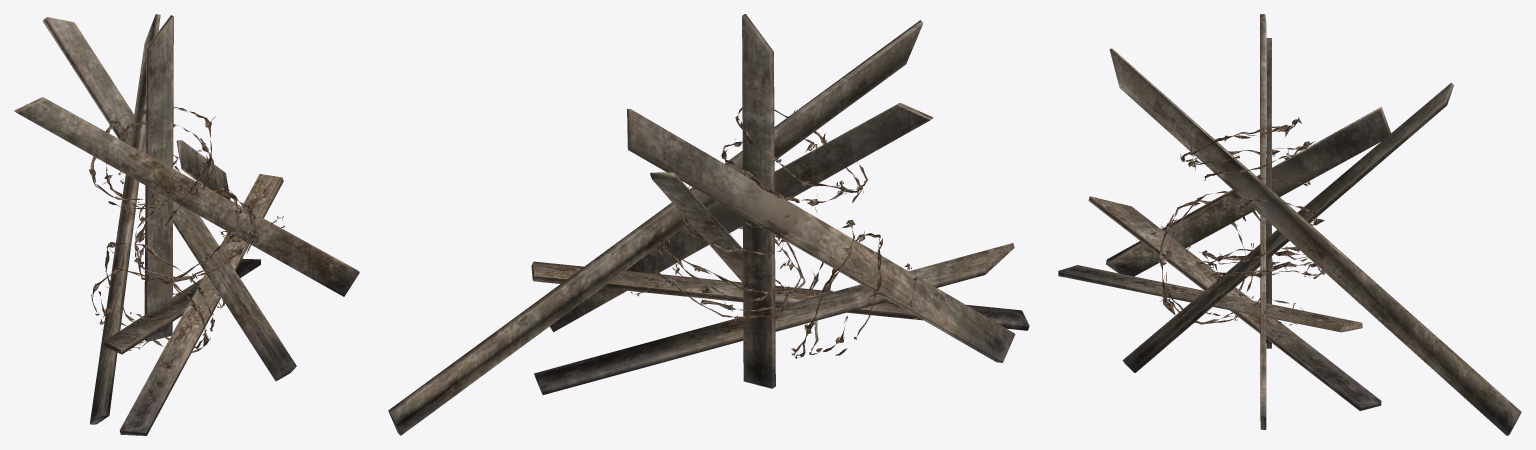
Rendered from tank_small.glb.
The picture shows the model from 3 angles, left to right: view 1: azimuth 30°, elevation 25°; view 2: azimuth 150°, elevation 25°; view 3: azimuth 270°, elevation 25°; orthographic projection. The views are drawn at different scales.
Visible parts, largest first — view 1: XI_WDS_Tank_Small_Blocker.Shape_XI_WDS_Tank_Small_Blocker_Ma; view 2: XI_WDS_Tank_Small_Blocker.Shape_XI_WDS_Tank_Small_Blocker_Ma; view 3: XI_WDS_Tank_Small_Blocker.Shape_XI_WDS_Tank_Small_Blocker_Ma.
Part boxes in pixels (x1,y1,x2,y2): XI_WDS_Tank_Small_Blocker.Shape_XI_WDS_Tank_Small_Blocker_Ma: (14, 14, 359, 435); XI_WDS_Tank_Small_Blocker.Shape_XI_WDS_Tank_Small_Blocker_Ma: (388, 14, 1029, 435); XI_WDS_Tank_Small_Blocker.Shape_XI_WDS_Tank_Small_Blocker_Ma: (1058, 14, 1521, 435).
Size of the model in its own units: 1.17 by 1.04 by 1.4.
Materials: 1 (1 with a texture image).
